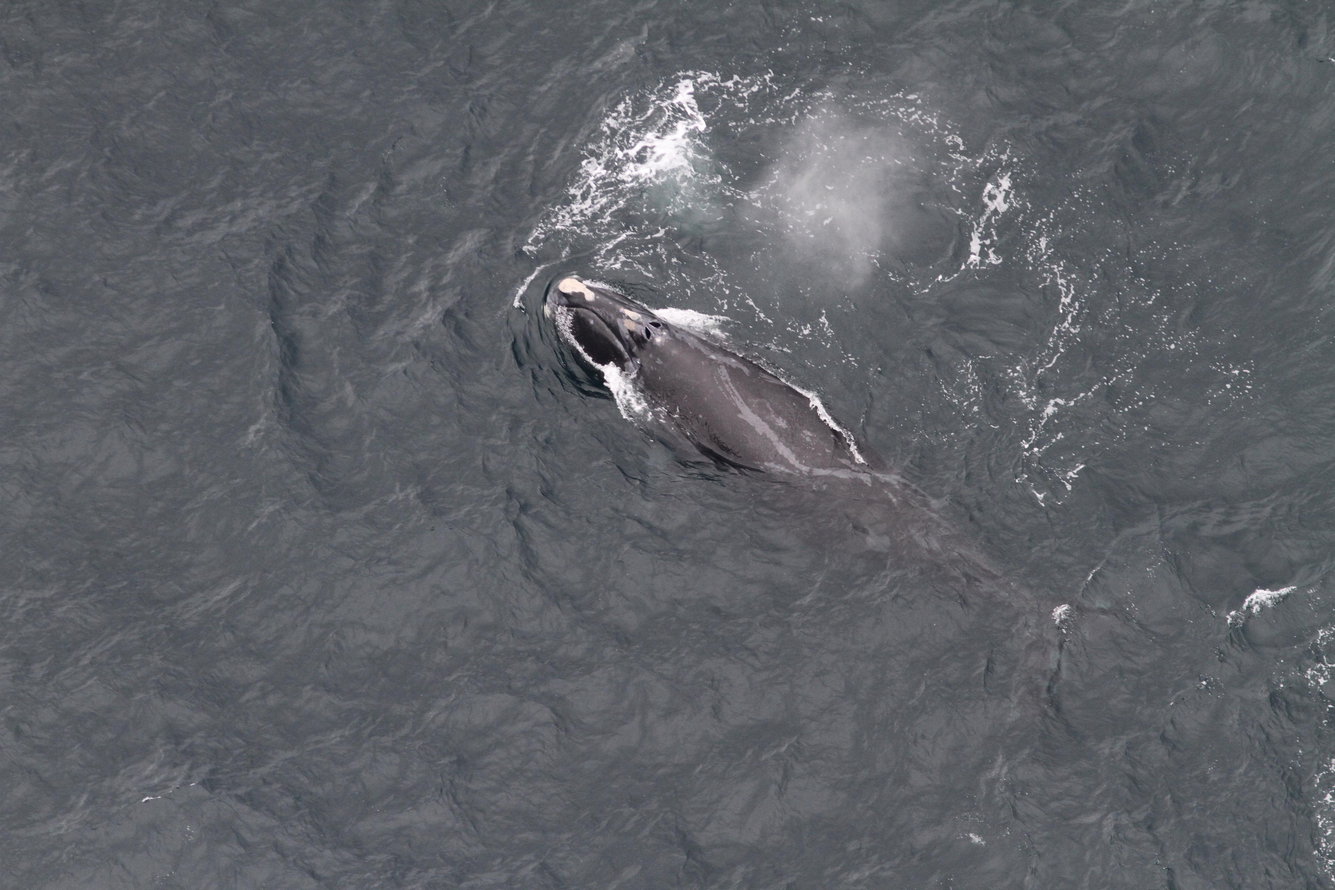whale: (535, 267, 1132, 706)
